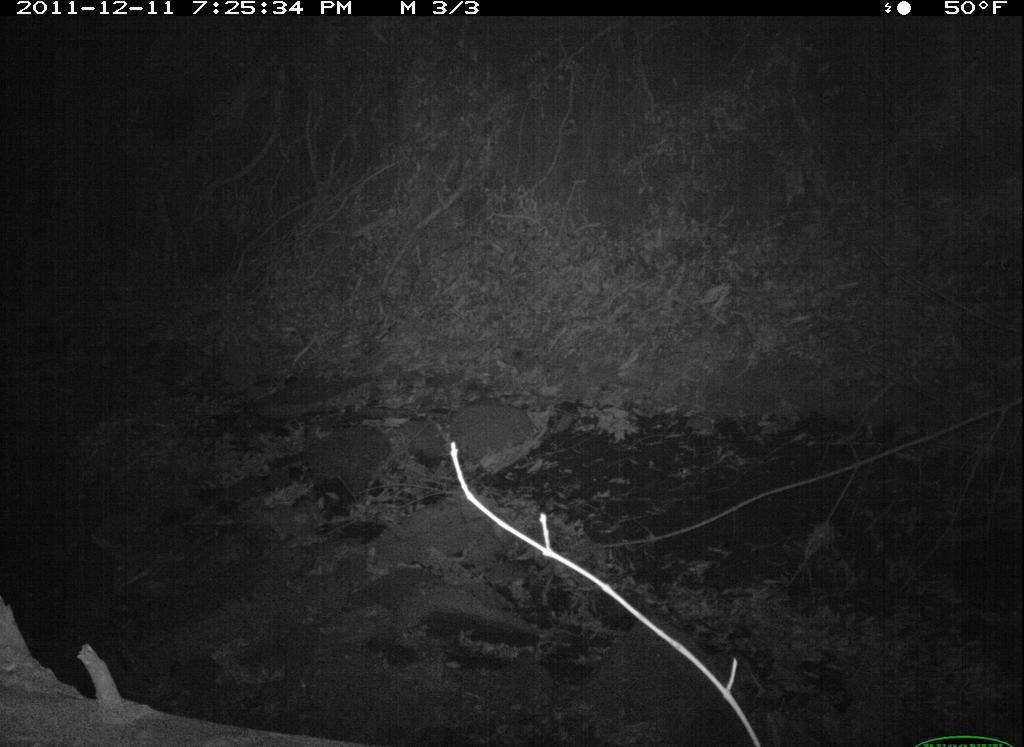raccoon: (281, 385, 409, 530)
